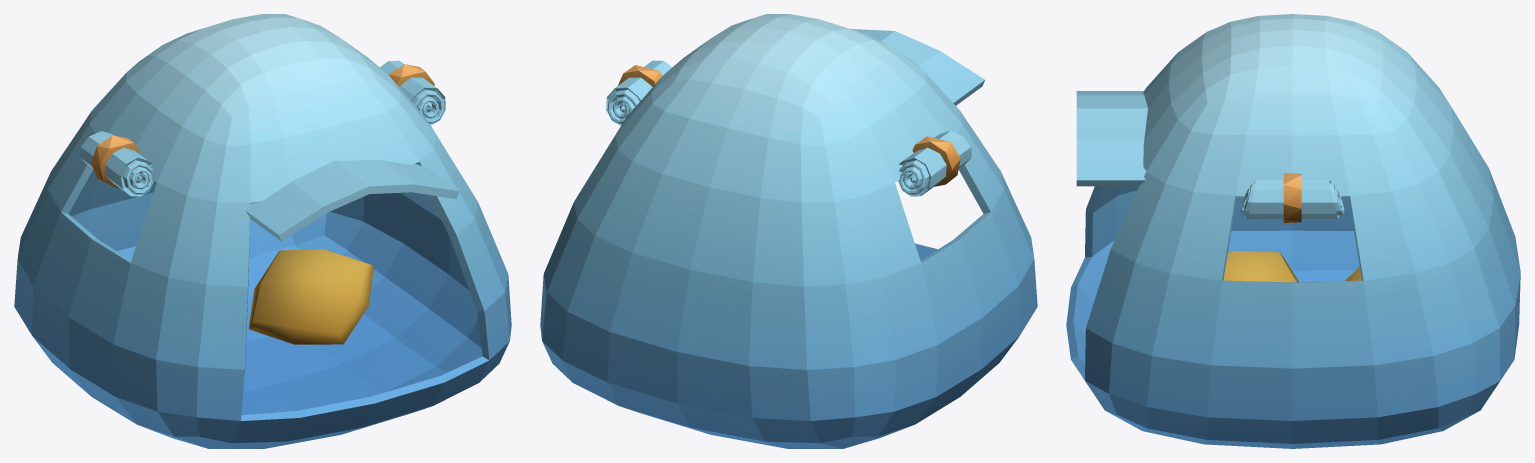
Rendered from camping.fbx.
The picture shows the model from 3 angles, left to right: view 1: azimuth 30°, elevation 25°; view 2: azimuth 150°, elevation 25°; view 3: azimuth 270°, elevation 25°; orthographic projection.
Parts seen in each view (by area): view 1: tent; view 2: tent; view 3: tent.
Part boxes in pixels (x1=…): tent: x1=14, y1=14, x2=511, y2=448; tent: x1=540, y1=14, x2=1037, y2=448; tent: x1=1066, y1=14, x2=1520, y2=448.
Bounding box in the file's own units: 2.1 × 1.89 × 2.1.
